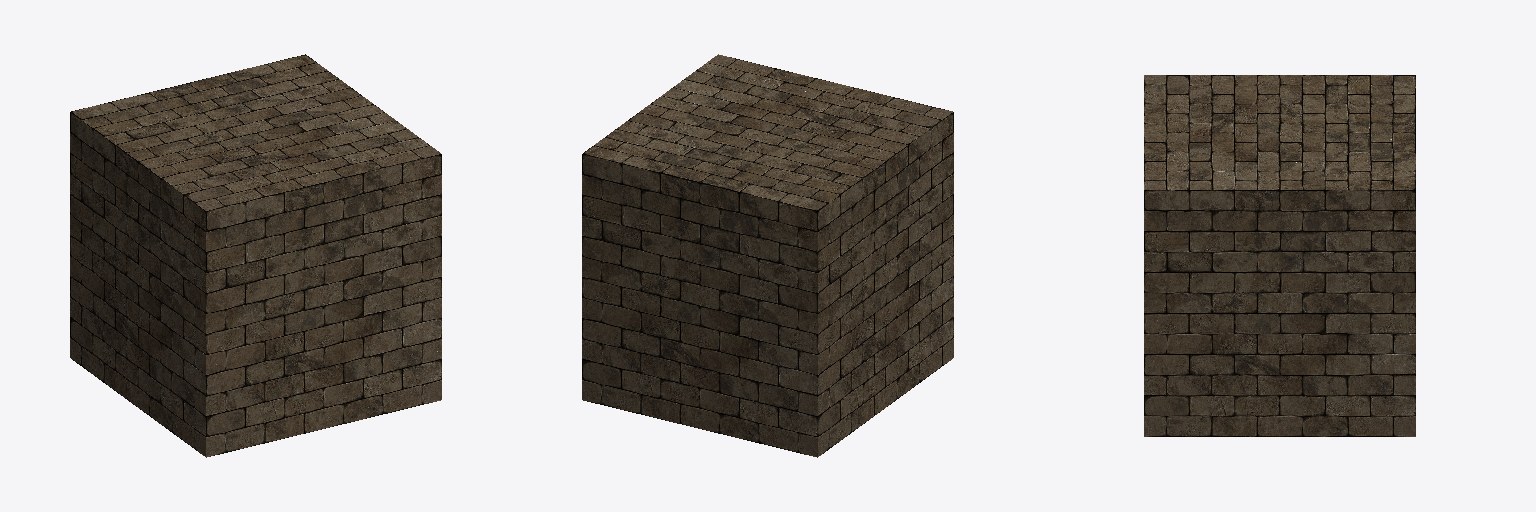
3 renders of one model, left to right at view 1: azimuth 30°, elevation 25°; view 2: azimuth 150°, elevation 25°; view 3: azimuth 270°, elevation 25°, orthographic.
Visible parts, largest first — view 1: Brickwall; view 2: Brickwall; view 3: Brickwall.
Boxes of the visible parts, x1=… form: Brickwall: x1=70, y1=54, x2=441, y2=457; Brickwall: x1=582, y1=54, x2=953, y2=457; Brickwall: x1=1144, y1=75, x2=1415, y2=436.
Bounding box in the file's own units: 2 × 2 × 2.
Materials: 1 (1 with a texture image).